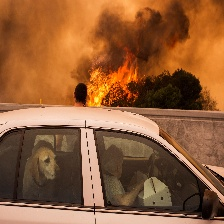fire: (87, 59, 138, 108)
smoke: (3, 1, 224, 96)
